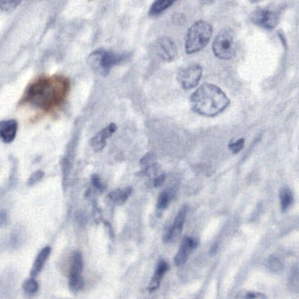Lymphocyte: (23, 75, 69, 112)
